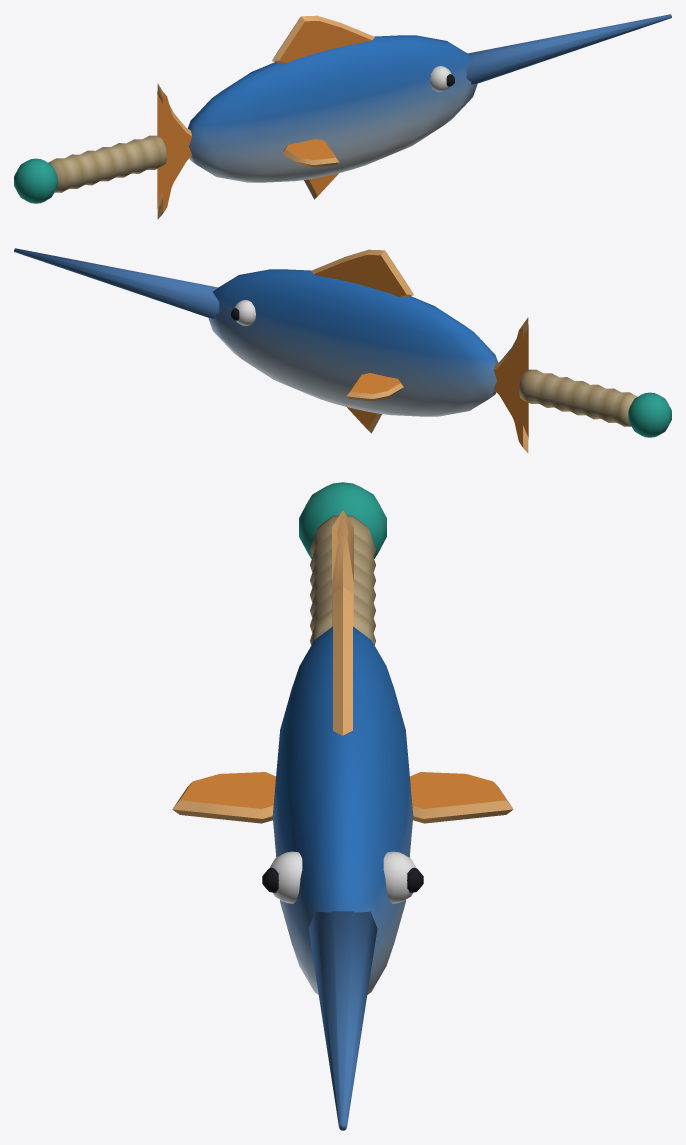
The model's file is sword_fish.glb.
3 renders of one model, top to bottom at view 1: azimuth 30°, elevation 25°; view 2: azimuth 150°, elevation 25°; view 3: azimuth 270°, elevation 25°, orthographic. The views are drawn at different scales.
Parts seen in each view (by area): view 1: sword_fish; view 2: sword_fish; view 3: sword_fish.
Part boxes in pixels (box(x1,y1,x2,y2)): sword_fish: box(14, 14, 671, 219); sword_fish: box(14, 248, 671, 453); sword_fish: box(172, 482, 513, 1130).
Size of the model in its own units: 1.5 by 0.41 by 0.34.
